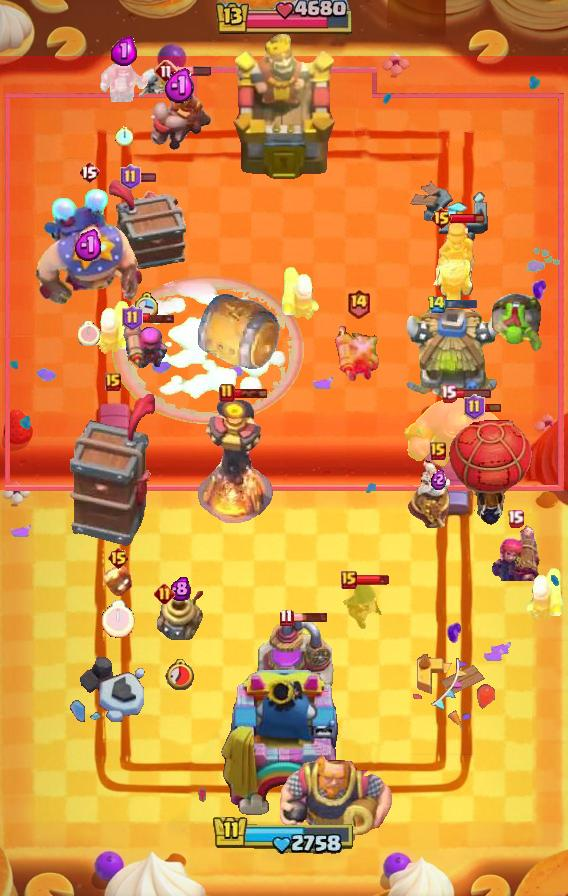bar-level: (491, 292, 545, 354)
bomber: (102, 564, 134, 598)
bowler: (99, 58, 149, 102)
cannon-cart: (448, 407, 534, 525)
clock: (212, 814, 356, 856), (213, 0, 355, 38)
clone: (403, 396, 513, 470)
dart-goblin: (68, 392, 158, 548), (105, 179, 187, 273)
dirt: (195, 291, 281, 373)
electro-dragon: (197, 397, 275, 523)
electro-spirit: (164, 68, 196, 104), (74, 230, 104, 263), (111, 36, 137, 66), (169, 575, 190, 601), (431, 469, 446, 490)
elite-barbarian: (147, 75, 213, 151), (433, 221, 479, 305)
elixir: (101, 600, 134, 638), (164, 658, 195, 690), (133, 293, 158, 320), (78, 322, 100, 347), (115, 126, 133, 146)
elixir-collector: (404, 459, 472, 533)
emote: (451, 212, 486, 225), (292, 611, 329, 623), (176, 65, 212, 77), (140, 312, 176, 324), (354, 574, 390, 586), (455, 388, 493, 399), (442, 299, 477, 310), (233, 388, 268, 399), (482, 402, 502, 413), (138, 173, 157, 184)
giant-skeleton: (278, 750, 394, 850)
goblin-drill: (157, 591, 203, 643)
heal-spirit: (136, 68, 170, 98)
king-tower: (219, 670, 349, 826), (231, 35, 337, 182)
little-prince: (33, 186, 145, 306)
mega-minion: (487, 519, 543, 581)
pekka: (257, 616, 335, 698)
phoenix-big: (111, 274, 305, 426)
prince: (401, 309, 503, 405)
tesla: (341, 578, 385, 632)
text: (346, 289, 371, 320), (154, 59, 178, 83), (430, 206, 454, 230), (463, 394, 485, 420), (106, 546, 129, 570), (119, 164, 140, 190), (121, 305, 142, 331), (78, 160, 100, 184), (153, 583, 174, 604), (427, 295, 446, 314), (219, 383, 235, 403), (439, 385, 456, 403), (508, 509, 525, 527), (105, 373, 121, 391), (430, 442, 446, 460), (341, 571, 357, 589), (279, 609, 293, 627)
tombstone: (335, 324, 381, 386), (123, 318, 169, 374), (280, 264, 322, 322), (91, 298, 133, 356), (523, 565, 565, 623)
